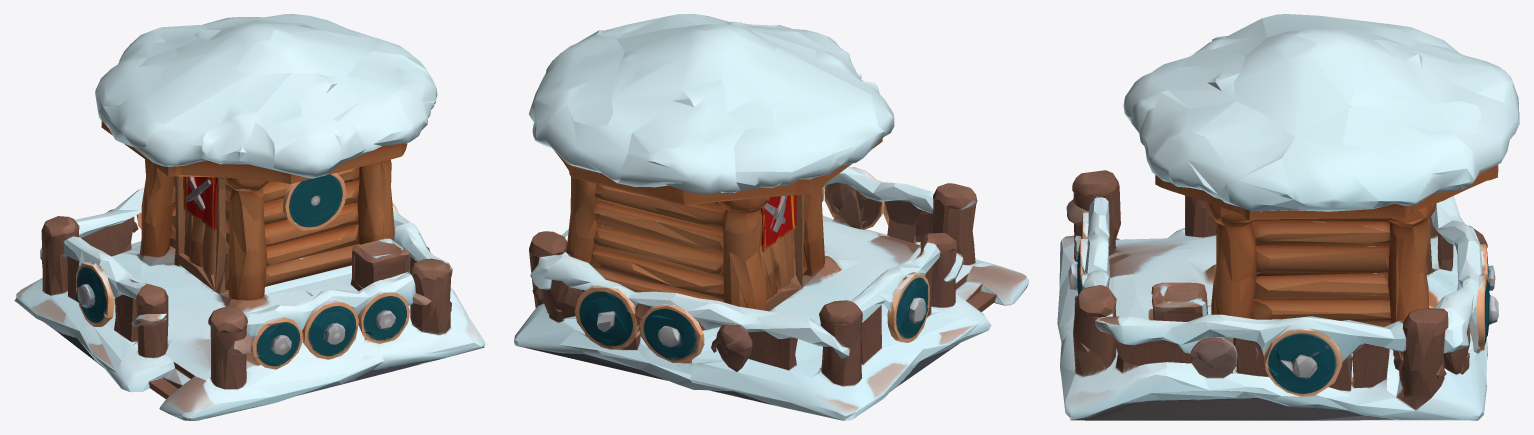
Rendered from barracks.glb.
3 renders of one model, left to right at view 1: azimuth 30°, elevation 25°; view 2: azimuth 150°, elevation 25°; view 3: azimuth 270°, elevation 25°, orthographic. The views are drawn at different scales.
Size of the model in its own units: 1.9 by 1.39 by 1.84.
Materials: 1 (1 with a texture image).
